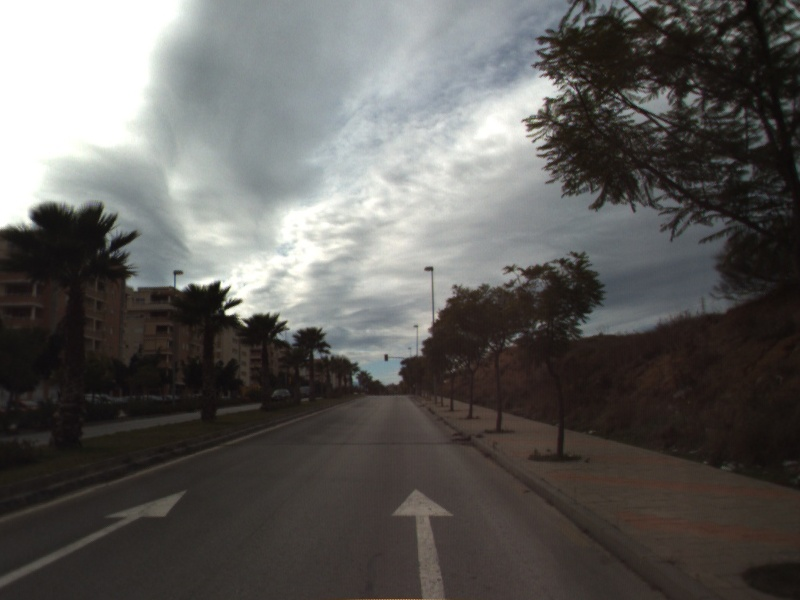STRAIGHT: (1, 487, 191, 588), (389, 486, 457, 600)
